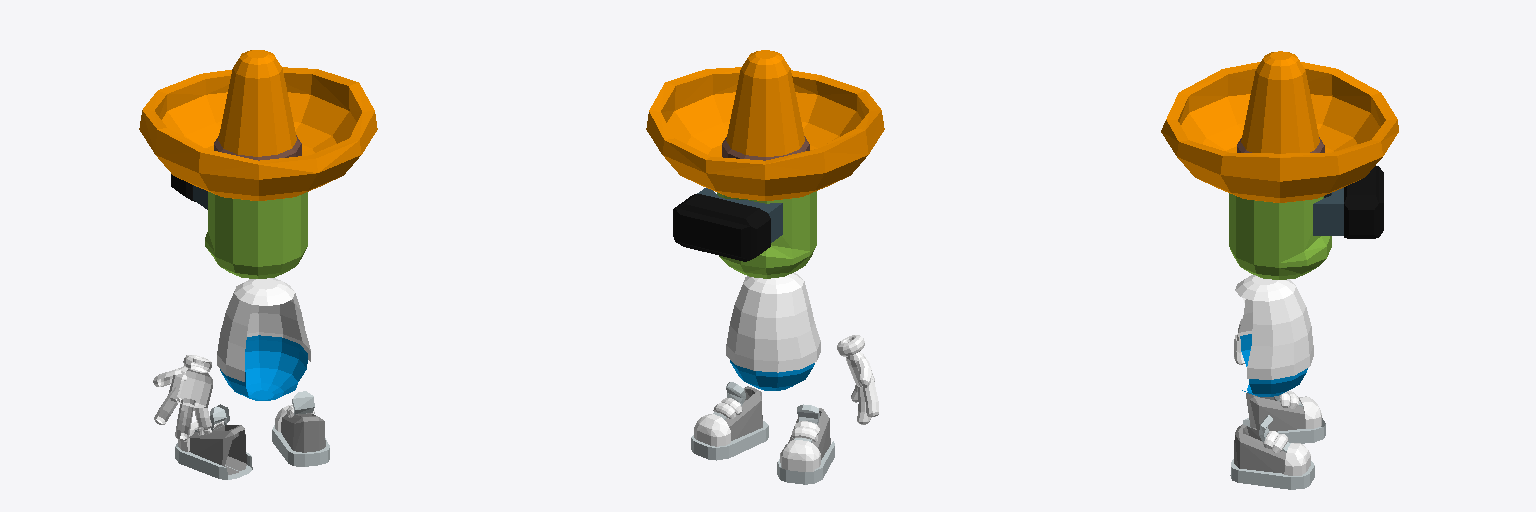
The model's file is boer.obj.
The picture shows the model from 3 angles: view 1: azimuth 30°, elevation 25°; view 2: azimuth 150°, elevation 25°; view 3: azimuth 270°, elevation 25°; orthographic projection.
Parts seen in each view (by area): view 1: boer:mesh[number redacted], boer:mesh[number redacted], boer:mesh[number redacted], boer:mesh[number redacted], boer:mesh[number redacted], boer:mesh[number redacted], boer:mesh[number redacted]; view 2: boer:mesh[number redacted], boer:mesh[number redacted], boer:mesh[number redacted], boer:mesh[number redacted], boer:mesh[number redacted], boer:mesh[number redacted], boer:mesh[number redacted]; view 3: boer:mesh[number redacted], boer:mesh[number redacted], boer:mesh[number redacted], boer:mesh[number redacted], boer:mesh[number redacted], boer:mesh[number redacted].
Part boxes in pixels (x1,y1,x2,y2): boer:mesh[number redacted]: (139, 50, 377, 200); boer:mesh[number redacted]: (217, 278, 310, 400); boer:mesh[number redacted]: (205, 192, 307, 278); boer:mesh[number redacted]: (175, 404, 252, 479); boer:mesh[number redacted]: (153, 355, 212, 440); boer:mesh[number redacted]: (272, 391, 329, 466); boer:mesh[number redacted]: (171, 174, 207, 209); boer:mesh[number redacted]: (646, 50, 884, 200); boer:mesh[number redacted]: (726, 273, 820, 390); boer:mesh[number redacted]: (673, 188, 782, 261); boer:mesh[number redacted]: (691, 382, 768, 460); boer:mesh[number redacted]: (717, 191, 816, 278); boer:mesh[number redacted]: (777, 404, 834, 484); boer:mesh[number redacted]: (837, 335, 878, 424); boer:mesh[number redacted]: (1161, 51, 1398, 202); boer:mesh[number redacted]: (1235, 275, 1313, 396); boer:mesh[number redacted]: (1229, 193, 1331, 279); boer:mesh[number redacted]: (1230, 415, 1314, 489); boer:mesh[number redacted]: (1313, 166, 1383, 238); boer:mesh[number redacted]: (1243, 391, 1325, 443).
Size of the model in its own units: 0.8501 by 1.55 by 0.83.